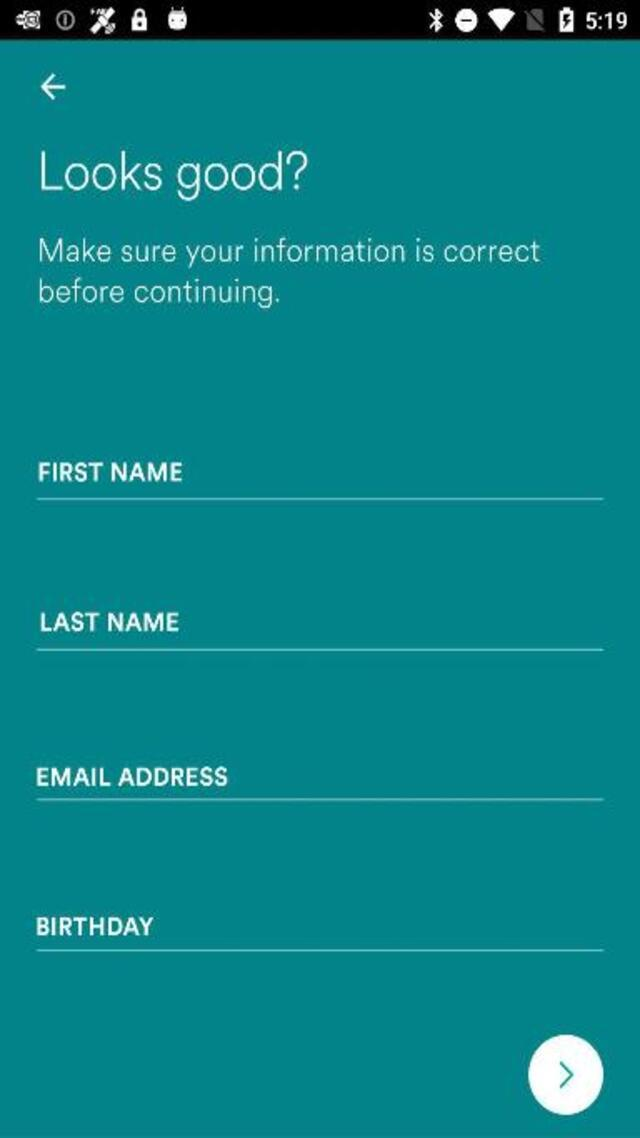Icon: (529, 1034, 604, 1114), (41, 74, 66, 100)
Text: (32, 235, 546, 269), (42, 150, 308, 200), (34, 274, 283, 312), (38, 767, 228, 787), (37, 461, 184, 483), (41, 612, 179, 632), (36, 916, 154, 937)
